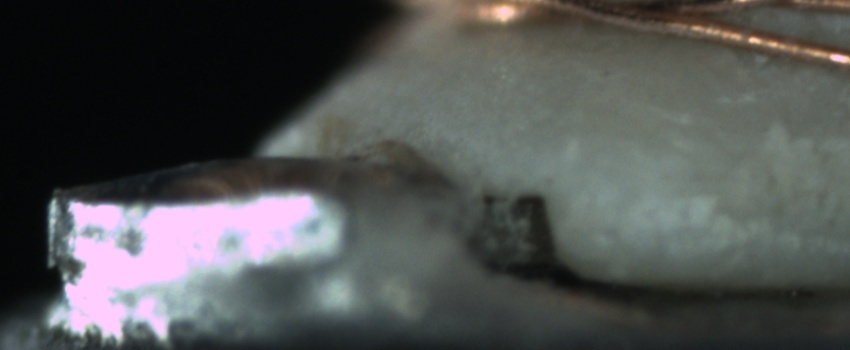DL: (608, 177, 729, 219)
